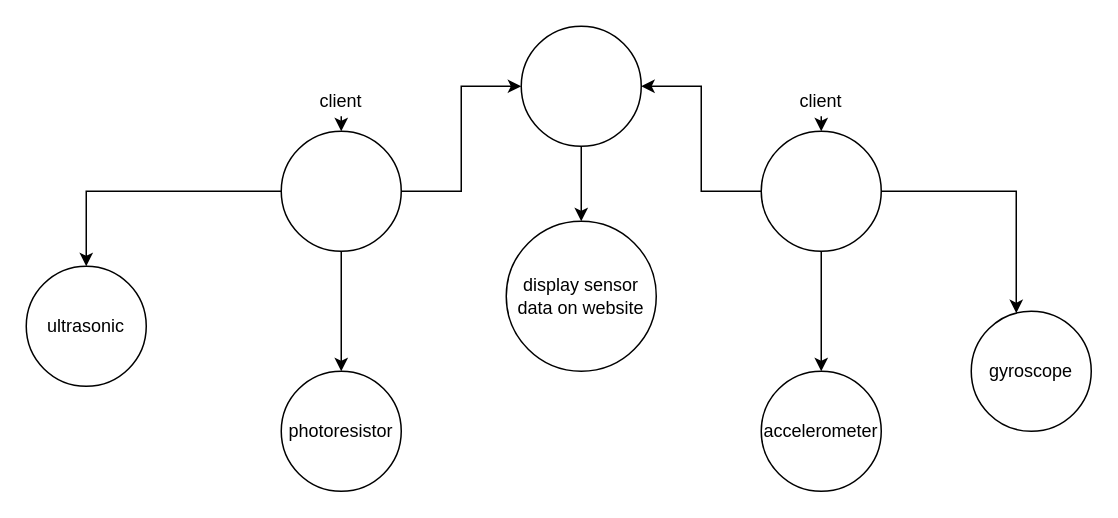
The diagram is 1118 pixels wide and 518 high, and some of its shapes have lost their labels. Here are the shapes that lost their labels. From the top down, the box of each, then its label:
(520, 25, 641, 146): server rPi
(280, 130, 401, 251): esp32
(760, 130, 881, 251): arduino nano
